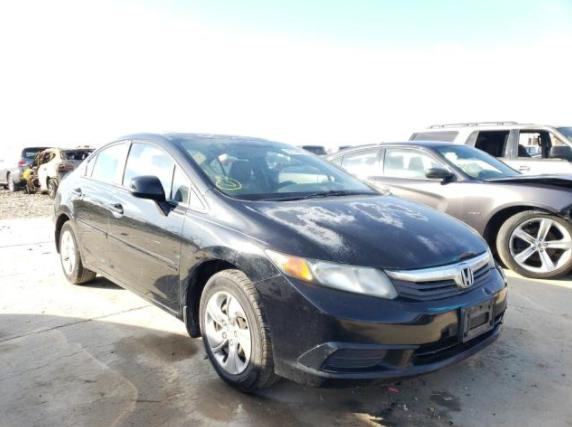Back-door: (73, 139, 129, 277)
Back-wheel: (59, 220, 97, 285)
Back-window: (92, 143, 125, 182), (86, 155, 96, 177)
Fender: (178, 186, 340, 340)
Front-bumper: (252, 265, 510, 391)
Front-door: (106, 138, 193, 315)
Front-wheel: (198, 269, 284, 396)
Front-window: (123, 144, 173, 198), (172, 165, 189, 204), (189, 187, 205, 211)
Grille: (380, 246, 496, 302)
Headlight: (264, 249, 399, 300)
Hood: (231, 194, 490, 270)
Mirror: (128, 175, 176, 219)
Quarter-panel: (53, 172, 85, 265)
Rocker-panel: (83, 261, 183, 322)
Roof: (153, 132, 295, 145)
Windshield: (173, 139, 391, 202)
